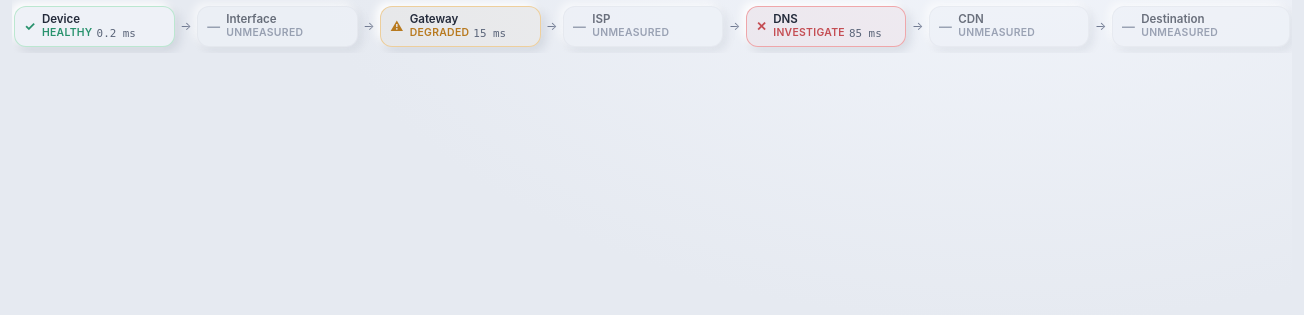
DiagnosticChainStrip › allows entering a custom target and probing with it
Click the button with aria-label "DNS Resolver" at (826, 26), box [746,6,906,47]
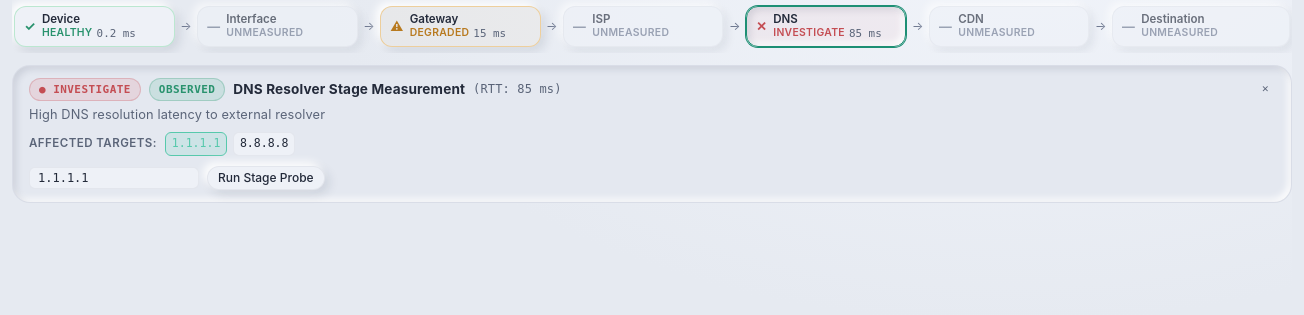
Type "9.9.9.9" into the field with test id "stage-probe-target-input" at (114, 178), box [29,167,199,189]
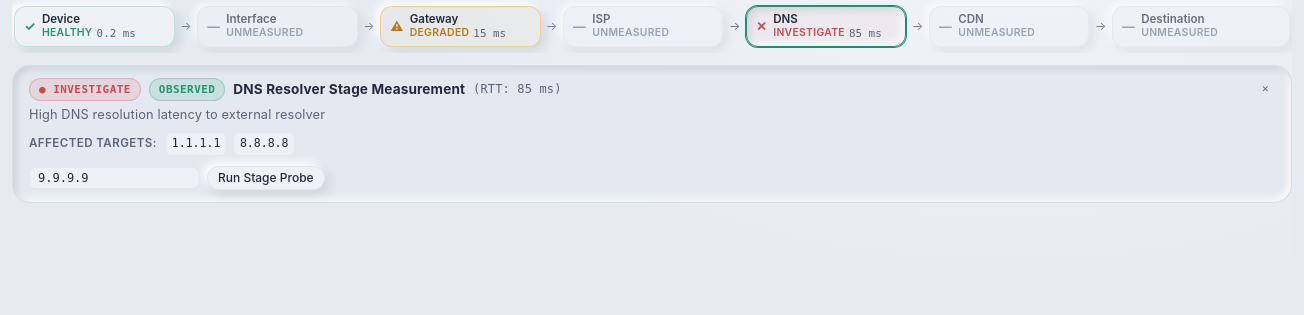
Click the button with test id "run-stage-probe-btn" at (266, 178), box [207,166,325,190]
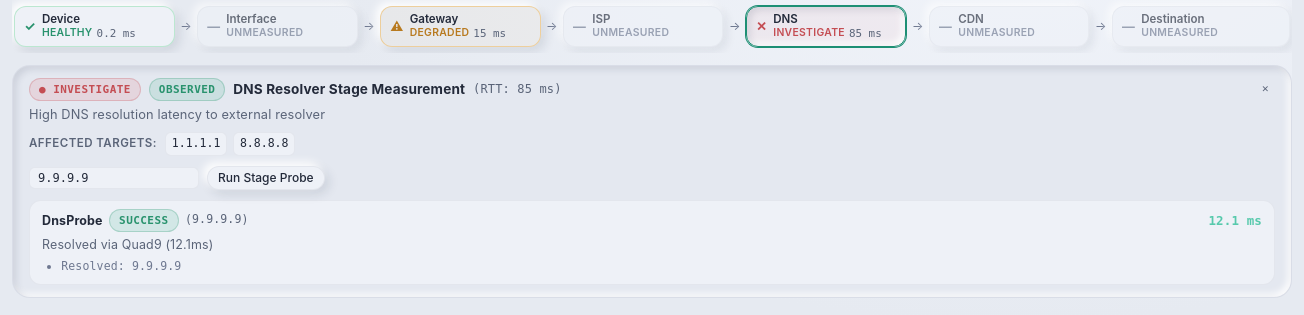
Expected: the text "Resolved via Quad9 (12.1ms)" is shown, [42,237,213,252]
